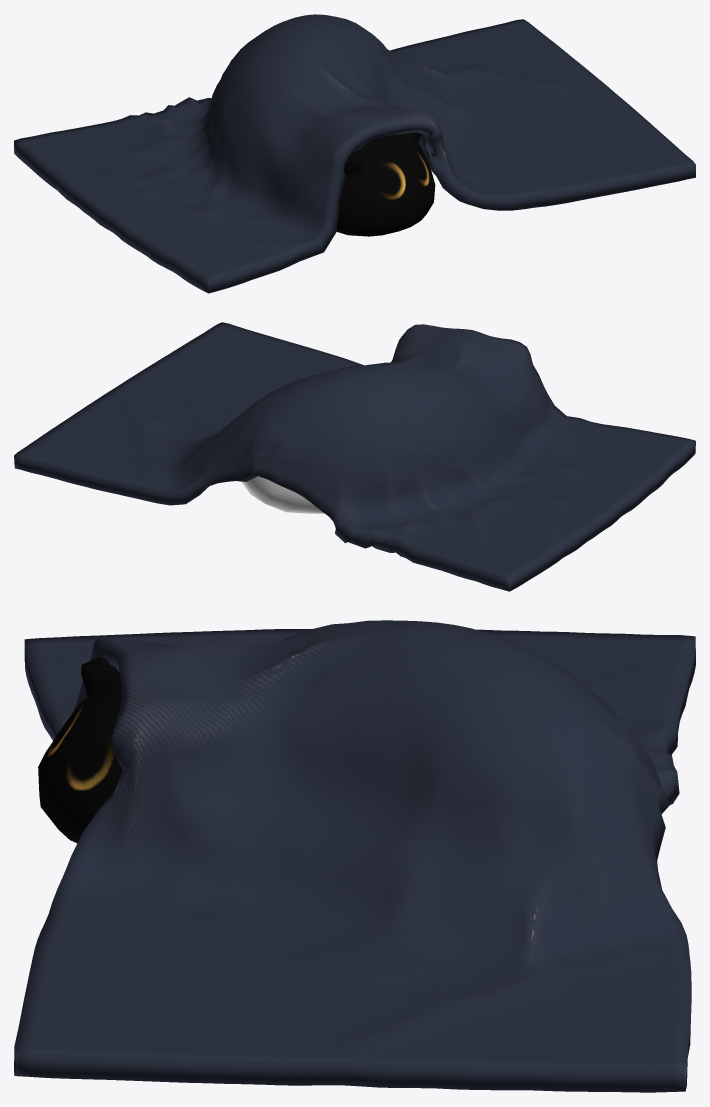
File: cat.glb
3 renders of one model, top to bottom at view 1: azimuth 30°, elevation 25°; view 2: azimuth 150°, elevation 25°; view 3: azimuth 270°, elevation 25°, orthographic. The views are drawn at different scales.
Visible parts, largest first — view 1: Cat in a Blanket.001; view 2: Cat in a Blanket.001; view 3: Cat in a Blanket.001.
Part boxes in pixels (x1=…): Cat in a Blanket.001: x1=14, y1=14, x2=695, y2=293; Cat in a Blanket.001: x1=14, y1=322, x2=695, y2=591; Cat in a Blanket.001: x1=14, y1=620, x2=695, y2=1092.
Bounding box in the file's own units: 0.4152 × 0.0944 × 0.2714.
3 materials, 2 textured.
